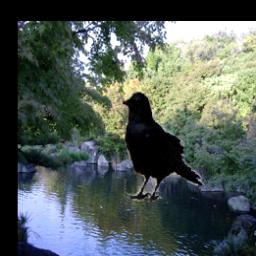Crow: (119, 91, 205, 203)
